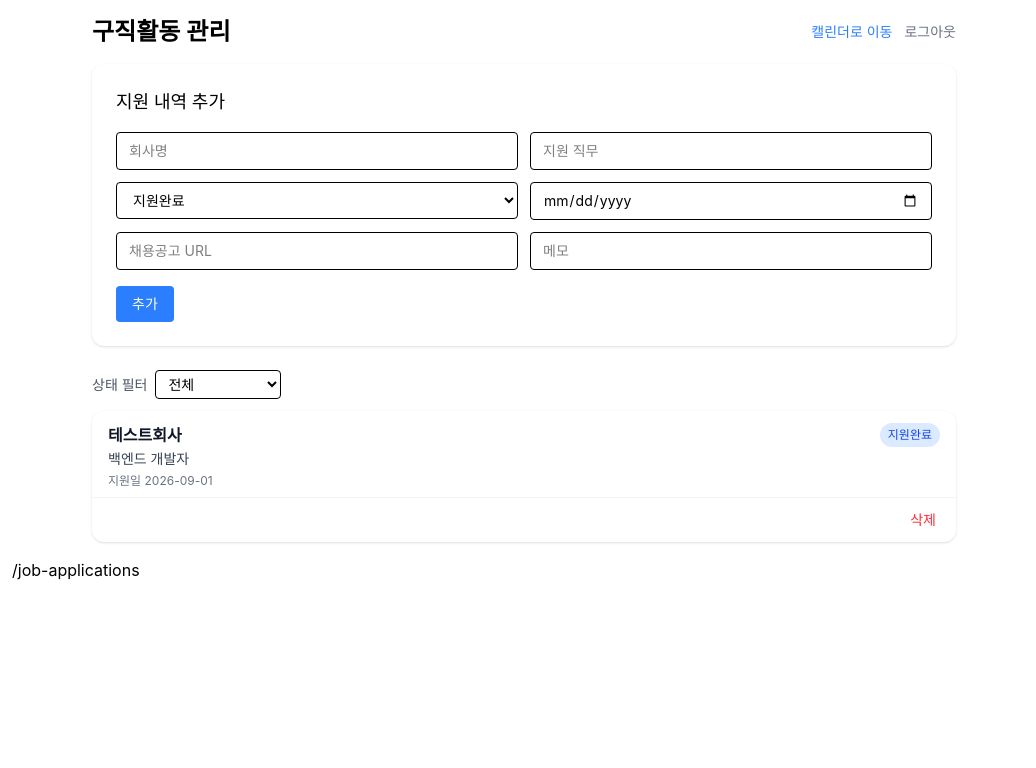
JobApplicationsPage › 작은 화면(카드 목록) › resize_whileEditing_keepsEditForm
The image size is (1036, 768).
Click the button "테스트회사 지원완료 백엔드 개발자 지원일 2026-09-01". click: (145, 435)
box: [92,411,956,497]
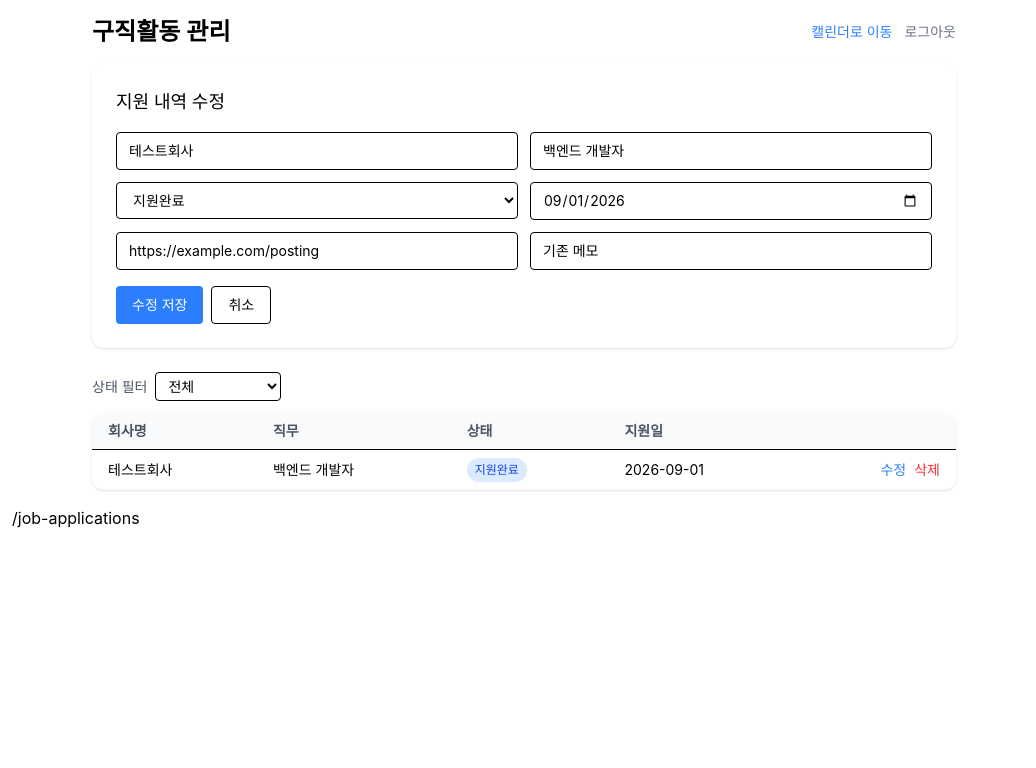
Expected: the 1st field with placeholder "회사명" holds "테스트회사", [116,132,518,170]
Expected: the 4th field with placeholder "메모" holds "기존 메모", [530,232,932,270]
Expected: the button "수정 저장" is shown, [116,286,204,324]
